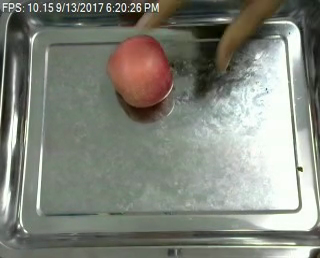Apple: (103, 35, 173, 107)
